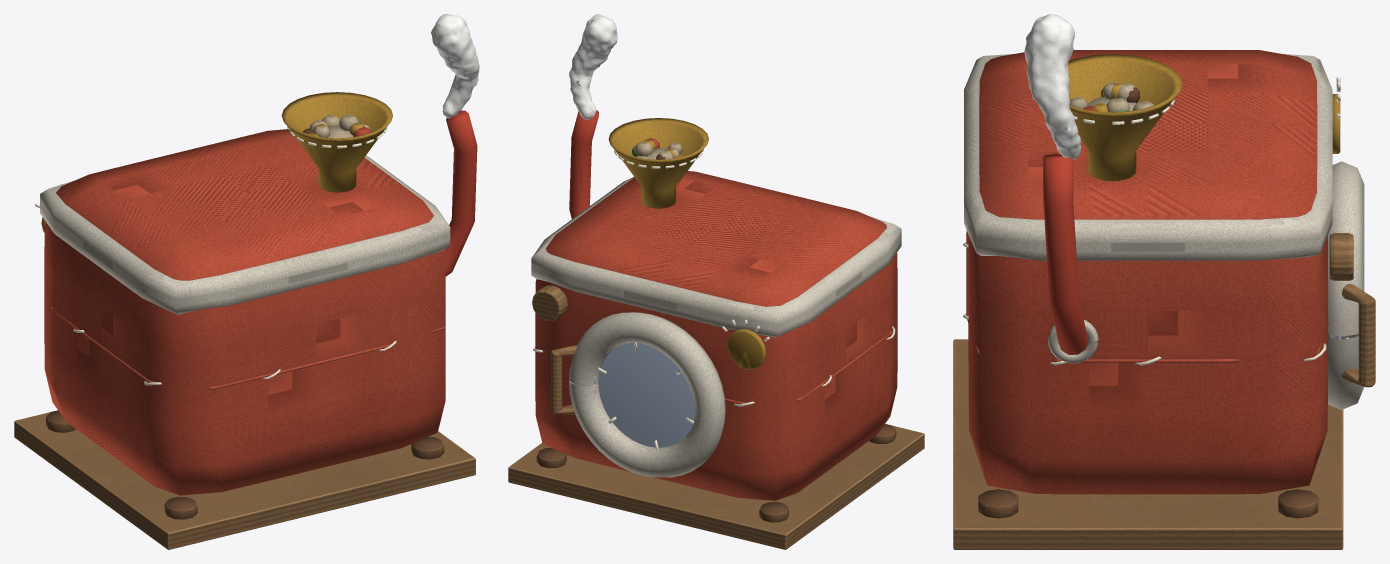
Rendered from giant_dryer_red.glb.
The picture shows the model from 3 angles, left to right: view 1: azimuth 30°, elevation 25°; view 2: azimuth 150°, elevation 25°; view 3: azimuth 270°, elevation 25°; orthographic projection. The views are drawn at different scales.
Visible parts, largest first — view 1: giant_dryer_red_felt_red, giant_dryer_red_wood, giant_dryer_red_felt_ivory, giant_dryer_red_felt_mustard, giant_dryer_red_yarn_red, giant_dryer_red_steam6, giant_dryer_red_button, giant_dryer_red_felt_beige; view 2: giant_dryer_red_felt_red, giant_dryer_red_felt_ivory, giant_dryer_red_wood, giant_dryer_red_glass, giant_dryer_red_felt_mustard, giant_dryer_red_steam6, giant_dryer_red_yarn_red, giant_dryer_red_button, giant_dryer_red_thread, giant_dryer_red_felt_beige; view 3: giant_dryer_red_felt_red, giant_dryer_red_wood, giant_dryer_red_felt_ivory, giant_dryer_red_felt_mustard, giant_dryer_red_yarn_red, giant_dryer_red_steam6, giant_dryer_red_button, giant_dryer_red_felt_beige, giant_dryer_red_thread.
Boxes of the visible parts, x1=… form: giant_dryer_red_felt_red: x1=44, y1=126, x2=445, y2=495; giant_dryer_red_wood: x1=14, y1=412, x2=475, y2=549; giant_dryer_red_felt_ivory: x1=40, y1=129, x2=450, y2=314; giant_dryer_red_felt_mustard: x1=41, y1=92, x2=392, y2=232; giant_dryer_red_yarn_red: x1=444, y1=110, x2=477, y2=276; giant_dryer_red_steam6: x1=431, y1=14, x2=479, y2=118; giant_dryer_red_button: x1=46, y1=410, x2=444, y2=519; giant_dryer_red_felt_beige: x1=309, y1=114, x2=370, y2=138; giant_dryer_red_felt_red: x1=535, y1=138, x2=897, y2=500; giant_dryer_red_felt_ivory: x1=531, y1=177, x2=901, y2=477; giant_dryer_red_wood: x1=508, y1=285, x2=924, y2=549; giant_dryer_red_glass: x1=598, y1=342, x2=694, y2=447; giant_dryer_red_felt_mustard: x1=608, y1=118, x2=766, y2=369; giant_dryer_red_steam6: x1=569, y1=14, x2=617, y2=119; giant_dryer_red_yarn_red: x1=569, y1=110, x2=598, y2=218; giant_dryer_red_button: x1=536, y1=424, x2=896, y2=522; giant_dryer_red_thread: x1=533, y1=149, x2=895, y2=451; giant_dryer_red_felt_beige: x1=635, y1=141, x2=682, y2=159; giant_dryer_red_felt_red: x1=966, y1=50, x2=1328, y2=494; giant_dryer_red_wood: x1=953, y1=233, x2=1375, y2=549; giant_dryer_red_felt_ivory: x1=964, y1=54, x2=1364, y2=409; giant_dryer_red_felt_mustard: x1=1068, y1=54, x2=1340, y2=181; giant_dryer_red_yarn_red: x1=1043, y1=154, x2=1088, y2=354; giant_dryer_red_steam6: x1=1024, y1=14, x2=1081, y2=159; giant_dryer_red_button: x1=978, y1=489, x2=1318, y2=518; giant_dryer_red_felt_beige: x1=1069, y1=82, x2=1153, y2=112; giant_dryer_red_thread: x1=963, y1=77, x2=1348, y2=365.
Size of the model in its own units: 3.41 by 3.99 by 2.82.
15 materials, 11 textured.
